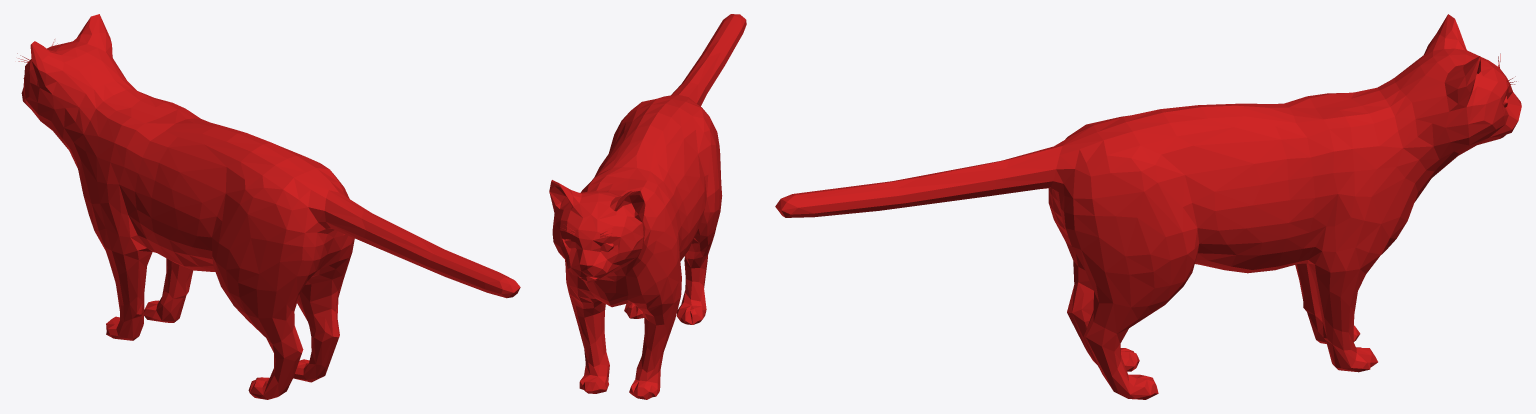
Rendered from cat_interpolative_shading.obj.
3 renders of one model, left to right at view 1: azimuth 30°, elevation 25°; view 2: azimuth 150°, elevation 25°; view 3: azimuth 270°, elevation 25°, orthographic. The views are drawn at different scales.
Parts seen in each view (by area): view 1: cat; view 2: cat; view 3: cat.
Boxes of the visible parts, x1,y1,x2,y2 form: cat: (17, 14, 520, 399); cat: (549, 14, 746, 399); cat: (775, 14, 1521, 399).
Bounding box in the file's own units: 258 × 331 × 734.
